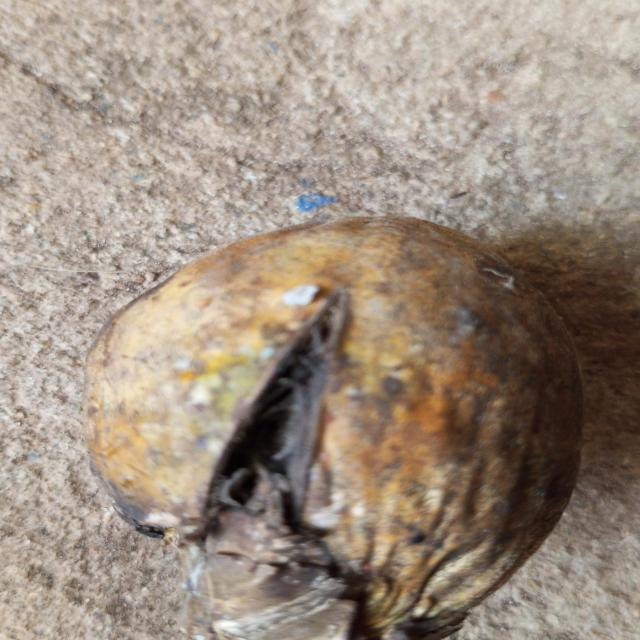damaged: (84, 213, 585, 640)
